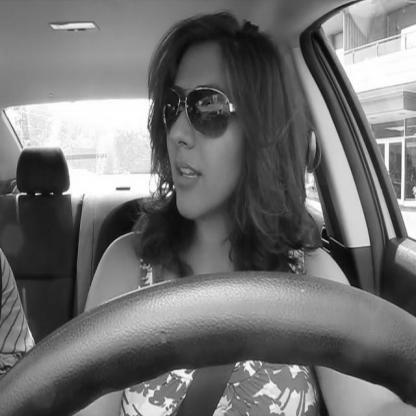seatbelt: (140, 6, 326, 416)
